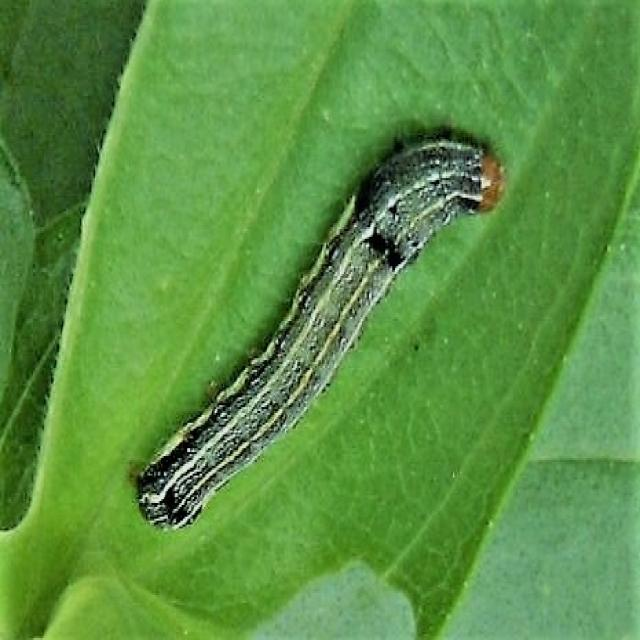armyworm: (134, 124, 504, 530)
